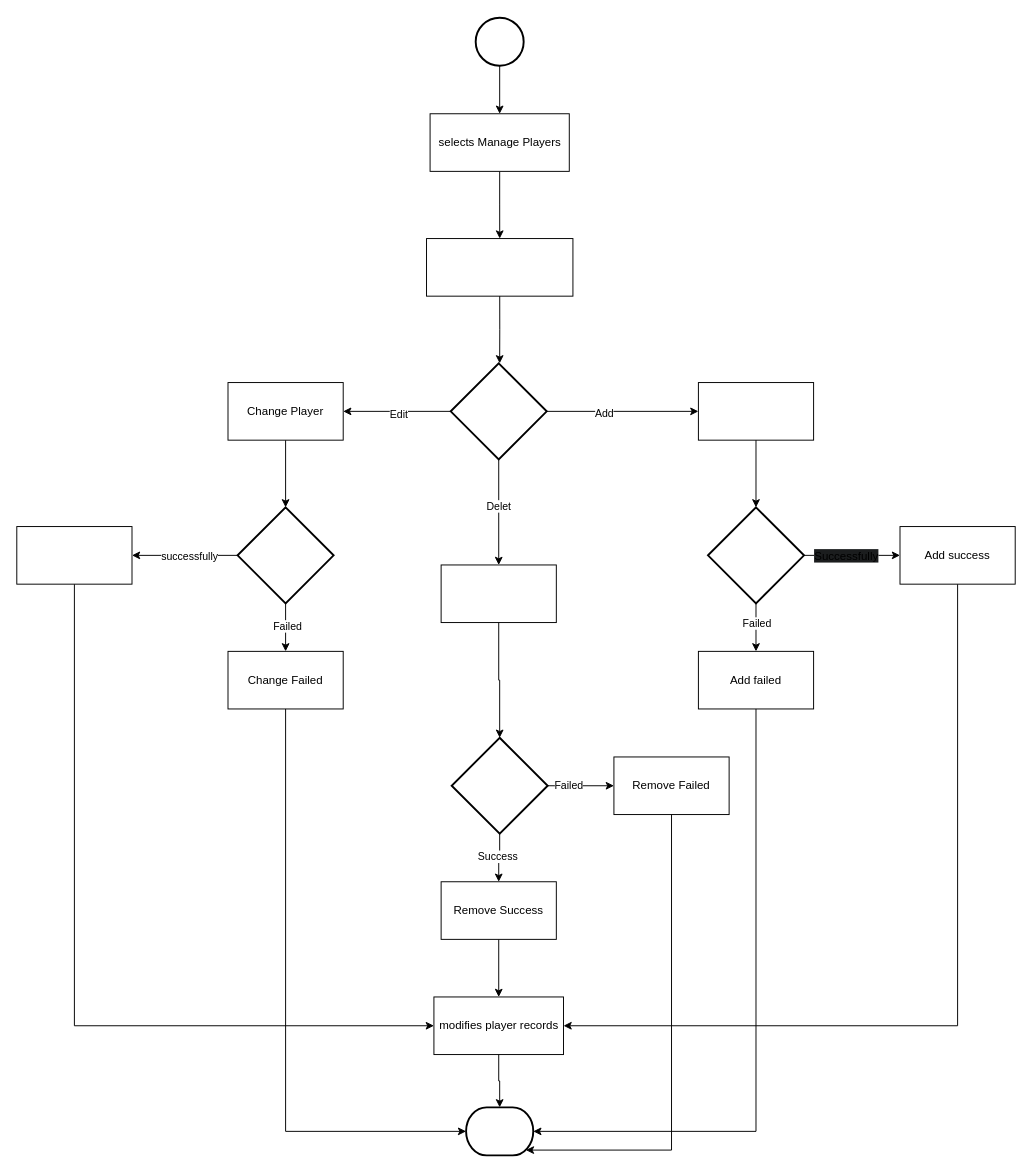
This 1032x1174 diagram has some shape labels left out. Here are the shapes that lost their labels. From the top down, the centre of each, then its label:
At point (499, 267): "sends operation request (Add/Edit/Delete)".
At point (755, 411): "Add Player".
At point (74, 555): "Change success".
At point (498, 593): "Remove Player".
